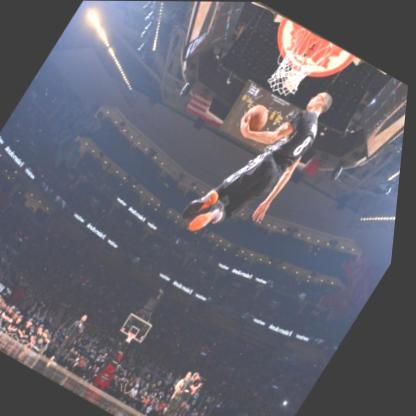basketball: (240, 100, 275, 134)
